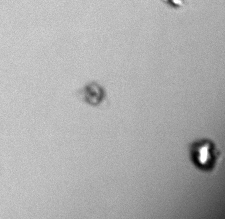Dead Cell: (85, 85, 103, 104)
Living Cell: (191, 138, 217, 170), (166, 1, 185, 7)
